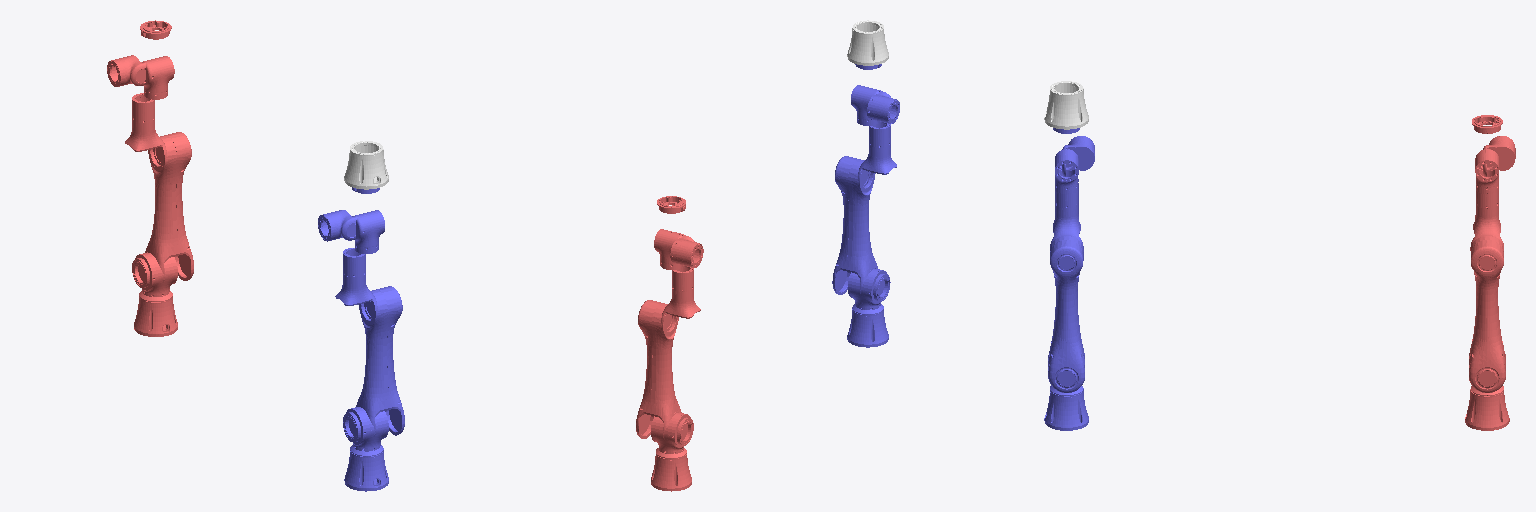
robot.urdf — dual_arm_with_pgc:
<?xml version="1.0" encoding="utf-8"?>
<robot name="dual_arm_with_pgc">
  <!-- World link -->
  <link name="world"/>

  <!-- ========== 左臂 (Left Arm) ========== -->
  <link name="left_base_link">
    <inertial>
      <origin xyz="-3.493E-05 1.9321E-08 0.041738" rpy="0 0 0" />
      <mass value="1.235" />
      <inertia
        ixx="0.00069305"
        ixy="-2.4629E-09"
        ixz="-7.7538E-07"
        iyy="0.00069224"
        iyz="1.1986E-09"
        izz="0.00059207" />
    </inertial>
    <visual>
      <origin xyz="0 0 0" rpy="0 0 0" />
      <geometry>
        <mesh filename="package://robot_description/meshes/arm620/base_link.STL" />
      </geometry>
      <material name="">
        <color rgba="0.5 0.5 1 1" />
      </material>
    </visual>
    <collision>
      <origin xyz="0 0 0" rpy="0 0 0" />
      <geometry>
        <mesh filename="package://robot_description/meshes/arm620/base_link.STL" />
      </geometry>
    </collision>
  </link>

  <link name="left_Link1">
    <inertial>
      <origin xyz="0.0083082 -9.0414E-07 0.066279" rpy="0 0 0" />
      <mass value="1.0225" />
      <inertia
        ixx="0.00033468"
        ixy="-1.0629E-08"
        ixz="-6.9769E-06"
        iyy="0.0002898"
        iyz="-1.0465E-08"
        izz="0.00026359" />
    </inertial>
    <visual>
      <origin xyz="0 0 0" rpy="0 0 0" />
      <geometry>
        <mesh filename="package://robot_description/meshes/arm620/Link1.STL" />
      </geometry>
      <material name="">
        <color rgba="0.5 0.5 1 1" />
      </material>
    </visual>
    <collision>
      <origin xyz="0 0 0" rpy="0 0 0" />
      <geometry>
        <mesh filename="package://robot_description/meshes/arm620/Link1.STL" />
      </geometry>
    </collision>
  </link>

  <link name="left_Link2">
    <inertial>
      <origin xyz="1.6176E-06 0.19554 -0.0019139" rpy="0 0 0" />
      <mass value="1.925" />
      <inertia
        ixx="0.0092613"
        ixy="2.9244E-08"
        ixz="-6.7107E-09"
        iyy="0.00075528"
        iyz="-1.5539E-05"
        izz="0.0090845" />
    </inertial>
    <visual>
      <origin xyz="0 0 0" rpy="0 0 0" />
      <geometry>
        <mesh filename="package://robot_description/meshes/arm620/Link2.STL" />
      </geometry>
      <material name="">
        <color rgba="0.5 0.5 1 1" />
      </material>
    </visual>
    <collision>
      <origin xyz="0 0 0" rpy="0 0 0" />
      <geometry>
        <mesh filename="package://robot_description/meshes/arm620/Link2.STL" />
      </geometry>
    </collision>
  </link>

  <link name="left_Link3">
    <inertial>
      <origin xyz="1.8251E-05 -0.073691 0.010704" rpy="0 0 0" />
      <mass value="0.73" />
      <inertia
        ixx="0.00059318"
        ixy="1.2073E-07"
        ixz="1.9423E-08"
        iyy="0.00015563"
        iyz="-0.00011324"
        izz="0.00055379" />
    </inertial>
    <visual>
      <origin xyz="0 0 0" rpy="0 0 0" />
      <geometry>
        <mesh filename="package://robot_description/meshes/arm620/Link3.STL" />
      </geometry>
      <material name="">
        <color rgba="0.5 0.5 1 1" />
      </material>
    </visual>
    <collision>
      <origin xyz="0 0 0" rpy="0 0 0" />
      <geometry>
        <mesh filename="package://robot_description/meshes/arm620/Link3.STL" />
      </geometry>
    </collision>
  </link>

  <link name="left_Link4">
    <inertial>
      <origin xyz="0.0059454 2.5068E-05 0.051809" rpy="0 0 0" />
      <mass value="0.5174" />
      <inertia
        ixx="0.00010342"
        ixy="-7.9433E-09"
        ixz="-7.9245E-06"
        iyy="0.0001193"
        iyz="-1.6196E-08"
        izz="8.5637E-05" />
    </inertial>
    <visual>
      <origin xyz="0 0 0" rpy="0 0 0" />
      <geometry>
        <mesh filename="package://robot_description/meshes/arm620/Link4.STL" />
      </geometry>
      <material name="">
        <color rgba="0.5 0.5 1 1" />
      </material>
    </visual>
    <collision>
      <origin xyz="0 0 0" rpy="0 0 0" />
      <geometry>
        <mesh filename="package://robot_description/meshes/arm620/Link4.STL" />
      </geometry>
    </collision>
  </link>

  <link name="left_Link5">
    <inertial>
      <origin xyz="0.0095168 0.061153 1.0106E-05" rpy="0 0 0" />
      <mass value="0.7233" />
      <inertia
        ixx="0.00013586"
        ixy="3.9115E-05"
        ixz="3.3963E-08"
        iyy="0.00010055"
        iyz="-1.3885E-07"
        izz="0.0001594" />
    </inertial>
    <visual>
      <origin xyz="0 0 0" rpy="0 0 0" />
      <geometry>
        <mesh filename="package://robot_description/meshes/arm620/Link5.STL" />
      </geometry>
      <material name="">
        <color rgba="0.5 0.5 1 1" />
      </material>
    </visual>
    <collision>
      <origin xyz="0 0 0" rpy="0 0 0" />
      <geometry>
        <mesh filename="package://robot_description/meshes/arm620/Link5.STL" />
      </geometry>
    </collision>
  </link>

  <link name="left_Link6">
    <inertial>
      <origin xyz="-0.0023023 0.0016027 0.010682" rpy="0 0 0" />
      <mass value="0.0953" />
      <inertia
        ixx="1.3179E-05"
        ixy="-9.4826E-08"
        ixz="2.2437E-07"
        iyy="1.3416E-05"
        iyz="-1.8512E-07"
        izz="2.4622E-05" />
    </inertial>
    <visual>
      <origin xyz="0 0 0" rpy="0 0 0" />
      <geometry>
        <mesh filename="package://robot_description/meshes/arm620/Link6.STL" />
      </geometry>
      <material name="">
        <color rgba="0.5 0.5 1 1" />
      </material>
    </visual>
    <collision>
      <origin xyz="0 0 0" rpy="0 0 0" />
      <geometry>
        <mesh filename="package://robot_description/meshes/arm620/Link6.STL" />
      </geometry>
    </collision>
  </link>

  <!-- 左臂关节连接 -->
  <joint name="left_base_joint" type="fixed">
    <parent link="world"/>
    <child link="left_base_link"/>
    <origin xyz="0 -0.5 0" rpy="0 0 0" />
    <axis xyz="0 0 1" />
  </joint>

  <joint name="left_joint1" type="revolute">
    <origin xyz="0 0 0.084" rpy="0 0 0" />
    <parent link="left_base_link" />
    <child link="left_Link1" />
    <axis xyz="0 0 1" />
    <limit lower="-2.967" upper="2.967" effort="51" velocity="3.14" />
  </joint>

  <joint name="left_joint2" type="revolute">
    <origin xyz="0 0 0.068718" rpy="1.5708 0 -1.5708" />
    <parent link="left_Link1" />
    <child link="left_Link2" />
    <axis xyz="0 0 -1" />
    <limit lower="-1.5708" upper="1.5708" effort="51" velocity="3.14" />
  </joint>

  <joint name="left_joint3" type="revolute">
    <origin xyz="0 0.30025 0" rpy="-3.1416 0 0" />
    <parent link="left_Link2" />
    <child link="left_Link3" />
    <axis xyz="0 0 1" />
    <limit lower="-1.5708" upper="1.5708" effort="51" velocity="3.14" />
  </joint>

  <joint name="left_joint4" type="revolute">
    <origin xyz="0 -0.15558 3.5E-05" rpy="1.5708 -1.5708 0" />
    <parent link="left_Link3" />
    <child link="left_Link4" />
    <axis xyz="0 0 1" />
    <limit lower="-2.967" upper="2.967" effort="9" velocity="3.14" />
  </joint>

  <joint name="left_joint5" type="revolute">
    <origin xyz="-3.5E-05 1.5362E-05 0.064223" rpy="1.5708 0 0" />
    <parent link="left_Link4" />
    <child link="left_Link5" />
    <axis xyz="1 0 0" />
    <limit lower="-1.5708" upper="1.5708" effort="9" velocity="3.14" />
  </joint>

  <joint name="left_joint6" type="revolute">
    <origin xyz="-0.00047523 0.095552 0" rpy="-1.5709 0 0" />
    <parent link="left_Link5" />
    <child link="left_Link6" />
    <axis xyz="0 0 1" />
    <limit lower="-2.967" upper="2.967" effort="9" velocity="3.14" />
  </joint>

  <!-- ========== 左臂夹爪 (Left Gripper) ========== -->
  <link name="left_gripper_base">
    <inertial>
      <origin
        xyz="-3.9257E-06 -0.00027208 0.0435"
        rpy="0 0 0" />
      <mass
        value="1.0" />
      <inertia
        ixx="0.00036805"
        ixy="-7.2868E-08"
        ixz="-5.0168E-08"
        iyy="0.0003341"
        iyz="-2.6462E-06"
        izz="0.00022294" />
    </inertial>
    <visual>
      <origin xyz="0 0 0" rpy="0 0 0" />
      <geometry>
        <mesh filename="package://robot_description/meshes/pgc_gripper/base_link.STL" />
      </geometry>
      <material name="">
        <color rgba="1 1 1 1" />
      </material>
    </visual>
    <collision>
      <origin xyz="0 0 0" rpy="0 0 0" />
      <geometry>
        <mesh filename="package://robot_description/meshes/pgc_gripper/base_link.STL" />
      </geometry>
    </collision>
  </link>

  <link name="left_gripper_finger1">
    <inertial>
      <origin
        xyz="0.0030491 -0.0066024 0.0064209"
        rpy="0 0 0" />
      <mass
        value="0.014278" />
      <inertia
        ixx="1.7567E-06"
        ixy="-5.7832E-08"
        ixz="2.6803E-08"
        iyy="2.3034E-06"
        iyz="2.2145E-07"
        izz="1.3354E-06" />
    </inertial>
    <visual>
      <origin xyz="0 0 0" rpy="0 0 0" />
      <geometry>
        <mesh filename="package://robot_description/meshes/pgc_gripper/finger1_Link.STL" />
      </geometry>
      <material name="">
        <color rgba="1 1 1 1" />
      </material>
    </visual>
    <collision>
      <origin xyz="0 0 0" rpy="0 0 0" />
      <geometry>
        <mesh filename="package://robot_description/meshes/pgc_gripper/finger1_Link.STL" />
      </geometry>
    </collision>
  </link>

  <link name="left_gripper_finger2">
    <inertial>
      <origin
        xyz="0.0030491 -0.0066024 0.0064209"
        rpy="0 0 0" />
      <mass
        value="0.014278" />
      <inertia
        ixx="1.7567E-06"
        ixy="-5.7832E-08"
        ixz="2.6803E-08"
        iyy="2.3034E-06"
        iyz="2.2145E-07"
        izz="1.3354E-06" />
    </inertial>
    <visual>
      <origin xyz="0 0 0" rpy="0 0 0" />
      <geometry>
        <mesh filename="package://robot_description/meshes/pgc_gripper/finger2_Link.STL" />
      </geometry>
      <material name="">
        <color rgba="0.79216 0.81961 0.93333 1" />
      </material>
    </visual>
    <collision>
      <origin xyz="0 0 0" rpy="0 0 0" />
      <geometry>
        <mesh filename="package://robot_description/meshes/pgc_gripper/finger2_Link.STL" />
      </geometry>
    </collision>
  </link>

  <!-- 左臂夹爪关节 -->
  <joint name="left_gripper_base_joint" type="fixed">
    <origin xyz="0 0 0.022" rpy="0 0 0" />
    <parent link="left_Link6" />
    <child link="left_gripper_base" />
    <axis xyz="0 0 1" />
  </joint>

  <joint name="left_gripper_finger1_joint" type="prismatic">
    <origin
      xyz="0.0132 0.0265 0.093"
      rpy="0 0 -1.5708" />
    <parent link="left_gripper_base" />
    <child link="left_gripper_finger1" />
    <axis xyz="1 0 0" />
    <limit lower="0.0" upper="0.025" effort="140" velocity="1.0" />
  </joint>

  <joint name="left_gripper_finger2_joint" type="prismatic">
    <origin
      xyz="-0.0132 -0.0265 0.093"
      rpy="0 0 1.5708" />
    <parent link="left_gripper_base" />
    <child link="left_gripper_finger2" />
    <axis xyz="1 0 0" />
    <limit lower="0.0" upper="0.025" effort="140" velocity="1.0" />
    <mimic
      joint="left_gripper_finger1_joint"
      multiplier="1"
      offset="0" />
  </joint>

  <!-- ========== 右臂 (Right Arm) ========== -->
  <link name="right_base_link">
    <inertial>
      <origin xyz="-3.493E-05 1.9321E-08 0.041738" rpy="0 0 0" />
      <mass value="1.235" />
      <inertia
        ixx="0.00069305"
        ixy="-2.4629E-09"
        ixz="-7.7538E-07"
        iyy="0.00069224"
        iyz="1.1986E-09"
        izz="0.00059207" />
    </inertial>
    <visual>
      <origin xyz="0 0 0" rpy="0 0 0" />
      <geometry>
        <mesh filename="package://robot_description/meshes/arm620/base_link.STL" />
      </geometry>
      <material name="">
        <color rgba="1 0.5 0.5 1" />
      </material>
    </visual>
    <collision>
      <origin xyz="0 0 0" rpy="0 0 0" />
      <geometry>
        <mesh filename="package://robot_description/meshes/arm620/base_link.STL" />
      </geometry>
    </collision>
  </link>

  <link name="right_Link1">
    <inertial>
      <origin xyz="0.0083082 -9.0414E-07 0.066279" rpy="0 0 0" />
      <mass value="1.0225" />
      <inertia
        ixx="0.00033468"
        ixy="-1.0629E-08"
        ixz="-6.9769E-06"
        iyy="0.0002898"
        iyz="-1.0465E-08"
        izz="0.00026359" />
    </inertial>
    <visual>
      <origin xyz="0 0 0" rpy="0 0 0" />
      <geometry>
        <mesh filename="package://robot_description/meshes/arm620/Link1.STL" />
      </geometry>
      <material name="">
        <color rgba="1 0.5 0.5 1" />
      </material>
    </visual>
    <collision>
      <origin xyz="0 0 0" rpy="0 0 0" />
      <geometry>
        <mesh filename="package://robot_description/meshes/arm620/Link1.STL" />
      </geometry>
    </collision>
  </link>

  <link name="right_Link2">
    <inertial>
      <origin xyz="1.6176E-06 0.19554 -0.0019139" rpy="0 0 0" />
      <mass value="1.925" />
      <inertia
        ixx="0.0092613"
        ixy="2.9244E-08"
        ixz="-6.7107E-09"
        iyy="0.00075528"
        iyz="-1.5539E-05"
        izz="0.0090845" />
    </inertial>
    <visual>
      <origin xyz="0 0 0" rpy="0 0 0" />
      <geometry>
        <mesh filename="package://robot_description/meshes/arm620/Link2.STL" />
      </geometry>
      <material name="">
        <color rgba="1 0.5 0.5 1" />
      </material>
    </visual>
    <collision>
      <origin xyz="0 0 0" rpy="0 0 0" />
      <geometry>
        <mesh filename="package://robot_description/meshes/arm620/Link2.STL" />
      </geometry>
    </collision>
  </link>

  <link name="right_Link3">
    <inertial>
      <origin xyz="1.8251E-05 -0.073691 0.010704" rpy="0 0 0" />
      <mass value="0.73" />
      <inertia
        ixx="0.00059318"
        ixy="1.2073E-07"
        ixz="1.9423E-08"
        iyy="0.00015563"
        iyz="-0.00011324"
        izz="0.00055379" />
    </inertial>
    <visual>
      <origin xyz="0 0 0" rpy="0 0 0" />
      <geometry>
        <mesh filename="package://robot_description/meshes/arm620/Link3.STL" />
      </geometry>
      <material name="">
        <color rgba="1 0.5 0.5 1" />
      </material>
    </visual>
    <collision>
      <origin xyz="0 0 0" rpy="0 0 0" />
      <geometry>
        <mesh filename="package://robot_description/meshes/arm620/Link3.STL" />
      </geometry>
    </collision>
  </link>

  <link name="right_Link4">
    <inertial>
      <origin xyz="0.0059454 2.5068E-05 0.051809" rpy="0 0 0" />
      <mass value="0.5174" />
      <inertia
        ixx="0.00010342"
        ixy="-7.9433E-09"
        ixz="-7.9245E-06"
        iyy="0.0001193"
        iyz="-1.6196E-08"
        izz="8.5637E-05" />
    </inertial>
    <visual>
      <origin xyz="0 0 0" rpy="0 0 0" />
      <geometry>
        <mesh filename="package://robot_description/meshes/arm620/Link4.STL" />
      </geometry>
      <material name="">
        <color rgba="1 0.5 0.5 1" />
      </material>
    </visual>
    <collision>
      <origin xyz="0 0 0" rpy="0 0 0" />
      <geometry>
        <mesh filename="package://robot_description/meshes/arm620/Link4.STL" />
      </geometry>
    </collision>
  </link>

  <link name="right_Link5">
    <inertial>
      <origin xyz="0.0095168 0.061153 1.0106E-05" rpy="0 0 0" />
      <mass value="0.7233" />
      <inertia
        ixx="0.00013586"
        ixy="3.9115E-05"
        ixz="3.3963E-08"
        iyy="0.00010055"
        iyz="-1.3885E-07"
        izz="0.0001594" />
    </inertial>
    <visual>
      <origin xyz="0 0 0" rpy="0 0 0" />
      <geometry>
        <mesh filename="package://robot_description/meshes/arm620/Link5.STL" />
      </geometry>
      <material name="">
        <color rgba="1 0.5 0.5 1" />
      </material>
    </visual>
    <collision>
      <origin xyz="0 0 0" rpy="0 0 0" />
      <geometry>
        <mesh filename="package://robot_description/meshes/arm620/Link5.STL" />
      </geometry>
    </collision>
  </link>

  <link name="right_Link6">
    <inertial>
      <origin xyz="-0.0023023 0.0016027 0.010682" rpy="0 0 0" />
      <mass value="0.0953" />
      <inertia
        ixx="1.3179E-05"
        ixy="-9.4826E-08"
        ixz="2.2437E-07"
        iyy="1.3416E-05"
        iyz="-1.8512E-07"
        izz="2.4622E-05" />
    </inertial>
    <visual>
      <origin xyz="0 0 0" rpy="0 0 0" />
      <geometry>
        <mesh filename="package://robot_description/meshes/arm620/Link6.STL" />
      </geometry>
      <material name="">
        <color rgba="1 0.5 0.5 1" />
      </material>
    </visual>
    <collision>
      <origin xyz="0 0 0" rpy="0 0 0" />
      <geometry>
        <mesh filename="package://robot_description/meshes/arm620/Link6.STL" />
      </geometry>
    </collision>
  </link>

  <!-- 右臂关节连接 -->
  <joint name="right_base_joint" type="fixed">
    <parent link="world"/>
    <child link="right_base_link"/>
    <origin xyz="0 0.5 0" rpy="0 0 0" />
    <axis xyz="0 0 1" />
  </joint>

  <joint name="right_joint1" type="revolute">
    <origin xyz="0 0 0.084" rpy="0 0 0" />
    <parent link="right_base_link" />
    <child link="right_Link1" />
    <axis xyz="0 0 1" />
    <limit lower="-2.967" upper="2.967" effort="51" velocity="3.14" />
  </joint>

  <joint name="right_joint2" type="revolute">
    <origin xyz="0 0 0.068718" rpy="1.5708 0 -1.5708" />
    <parent link="right_Link1" />
    <child link="right_Link2" />
    <axis xyz="0 0 -1" />
    <limit lower="-1.5708" upper="1.5708" effort="51" velocity="3.14" />
  </joint>

  <joint name="right_joint3" type="revolute">
    <origin xyz="0 0.30025 0" rpy="-3.1416 0 0" />
    <parent link="right_Link2" />
    <child link="right_Link3" />
    <axis xyz="0 0 1" />
    <limit lower="-1.5708" upper="1.5708" effort="51" velocity="3.14" />
  </joint>

  <joint name="right_joint4" type="revolute">
    <origin xyz="0 -0.15558 3.5E-05" rpy="1.5708 -1.5708 0" />
    <parent link="right_Link3" />
    <child link="right_Link4" />
    <axis xyz="0 0 1" />
    <limit lower="-2.967" upper="2.967" effort="9" velocity="3.14" />
  </joint>

  <joint name="right_joint5" type="revolute">
    <origin xyz="-3.5E-05 1.5362E-05 0.064223" rpy="1.5708 0 0" />
    <parent link="right_Link4" />
    <child link="right_Link5" />
    <axis xyz="1 0 0" />
    <limit lower="-1.5708" upper="1.5708" effort="9" velocity="3.14" />
  </joint>

  <joint name="right_joint6" type="revolute">
    <origin xyz="-0.00047523 0.095552 0" rpy="-1.5709 0 0" />
    <parent link="right_Link5" />
    <child link="right_Link6" />
    <axis xyz="0 0 1" />
    <limit lower="-2.967" upper="2.967" effort="9" velocity="3.14" />
  </joint>

</robot>

--- What the picture shows (computed from the rendered views, not written in the file) ---
3 views of the same robot in one strip: view 1: azimuth 30°, elevation 25°; view 2: azimuth 150°, elevation 25°; view 3: azimuth 270°, elevation 25° (orthographic).
Model dual_arm_with_pgc with 18 links and 17 joints (12 revolute, 2 prismatic, 3 fixed), rooted at world, posed every joint at zero.
Links seen in each view (by area): view 1: right_Link2, left_Link2, left_gripper_base, left_Link1, right_Link1, left_Link3, right_Link3, left_base_link, right_base_link, left_Link4, right_Link4, right_Link5 (+1 smaller); view 2: left_Link2, right_Link2, left_gripper_base, right_Link1, left_Link1, left_Link3, right_Link3, left_base_link, right_base_link, right_Link5, left_Link5, right_Link4 (+1 smaller); view 3: left_Link2, right_Link2, left_gripper_base, right_base_link, left_base_link, left_Link3, right_Link3, left_Link4, right_Link4, right_Link5, left_Link5.
Boxes of the visible links, x1=… form: right_Link2: x1=145, y1=132, x2=193, y2=282; left_Link2: x1=356, y1=286, x2=404, y2=436; left_gripper_base: x1=344, y1=141, x2=388, y2=189; left_Link1: x1=343, y1=407, x2=388, y2=456; right_Link1: x1=132, y1=252, x2=177, y2=301; left_Link3: x1=335, y1=248, x2=377, y2=322; right_Link3: x1=125, y1=93, x2=166, y2=168; left_base_link: x1=344, y1=451, x2=388, y2=491; right_base_link: x1=134, y1=297, x2=177, y2=336; left_Link4: x1=352, y1=210, x2=384, y2=253; right_Link4: x1=142, y1=56, x2=174, y2=99; right_Link5: x1=107, y1=55, x2=157, y2=86; left_Link2: x1=832, y1=156, x2=877, y2=296; right_Link2: x1=636, y1=300, x2=681, y2=440; left_gripper_base: x1=847, y1=20, x2=888, y2=65; right_Link1: x1=651, y1=412, x2=693, y2=458; left_Link1: x1=848, y1=269, x2=890, y2=314; left_Link3: x1=858, y1=121, x2=896, y2=190; right_Link3: x1=661, y1=265, x2=700, y2=334; left_base_link: x1=847, y1=309, x2=888, y2=347; right_base_link: x1=651, y1=454, x2=691, y2=491; right_Link5: x1=670, y1=232, x2=703, y2=267; left_Link5: x1=867, y1=88, x2=899, y2=123; right_Link4: x1=654, y1=229, x2=683, y2=269; left_Link2: x1=1048, y1=236, x2=1084, y2=392; right_Link2: x1=1469, y1=236, x2=1505, y2=392; left_gripper_base: x1=1044, y1=81, x2=1088, y2=129; right_base_link: x1=1465, y1=389, x2=1509, y2=430; left_base_link: x1=1044, y1=390, x2=1088, y2=430; left_Link3: x1=1050, y1=189, x2=1083, y2=248; right_Link3: x1=1470, y1=191, x2=1503, y2=250; left_Link4: x1=1055, y1=149, x2=1078, y2=193; right_Link4: x1=1475, y1=149, x2=1498, y2=193; right_Link5: x1=1483, y1=136, x2=1515, y2=176; left_Link5: x1=1062, y1=136, x2=1094, y2=176.
Bounding box of the posed robot: 0.182 × 1.12 × 0.8743 m (x, y, z).
Meshes: 10 distinct files referenced, 15 mesh visuals loaded (7 binary STL); not drawn: 2 (reference not matched to a file when rendering).
